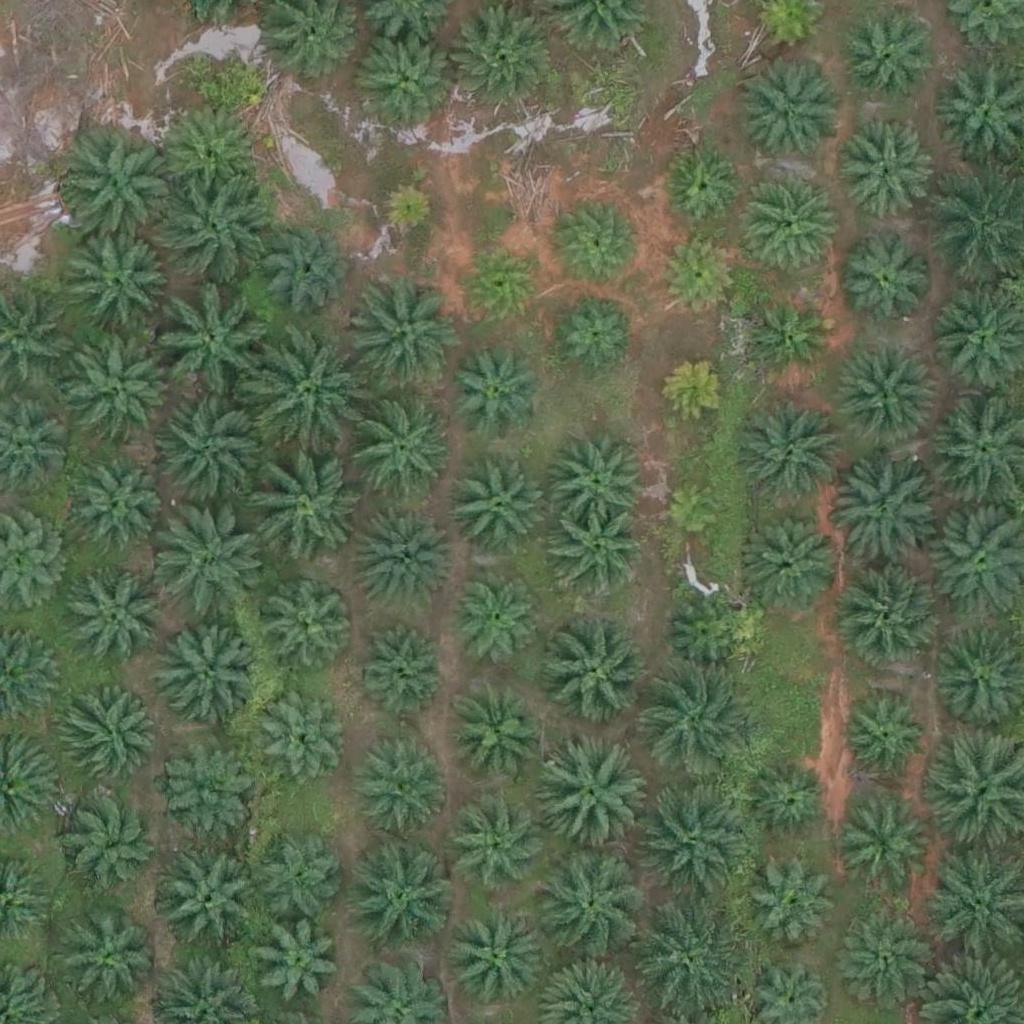Kelapa_Sawit: (734, 392, 847, 506), (641, 785, 754, 899), (538, 613, 651, 727), (832, 458, 945, 571), (531, 741, 644, 854), (153, 393, 266, 506), (250, 340, 363, 453), (156, 289, 269, 402), (61, 132, 174, 245), (152, 510, 264, 624), (444, 1, 556, 115), (644, 664, 756, 777), (632, 904, 744, 1017), (534, 848, 646, 961), (246, 449, 358, 562), (347, 276, 459, 389), (162, 172, 274, 285), (64, 322, 176, 435), (833, 345, 933, 446), (846, 568, 946, 669), (747, 509, 847, 610), (547, 429, 647, 530), (441, 342, 541, 443), (448, 458, 548, 559), (448, 682, 548, 783), (450, 799, 550, 900), (446, 910, 546, 1011), (354, 398, 454, 499), (351, 731, 451, 832), (350, 850, 450, 951), (259, 571, 359, 672), (159, 626, 259, 727), (163, 855, 263, 956), (64, 568, 164, 669), (56, 688, 156, 789), (61, 788, 161, 889), (839, 3, 939, 104), (839, 113, 939, 214), (832, 236, 932, 337), (737, 65, 837, 166), (736, 173, 836, 274), (161, 102, 261, 203), (69, 236, 169, 337), (350, 513, 450, 613), (155, 738, 255, 838), (360, 32, 460, 132), (451, 580, 539, 669), (841, 914, 929, 1002), (750, 865, 838, 953), (664, 594, 752, 682), (556, 509, 644, 597), (356, 624, 444, 712), (555, 197, 643, 285), (555, 289, 643, 377), (653, 229, 741, 317), (661, 140, 749, 228), (268, 222, 356, 310), (842, 695, 929, 784), (846, 810, 933, 898), (745, 762, 832, 850), (257, 692, 344, 780), (257, 833, 344, 921), (254, 921, 341, 1009), (76, 463, 163, 551), (65, 916, 152, 1004), (456, 239, 543, 327), (746, 289, 833, 377), (658, 351, 733, 427), (373, 180, 436, 243), (663, 480, 725, 543)
